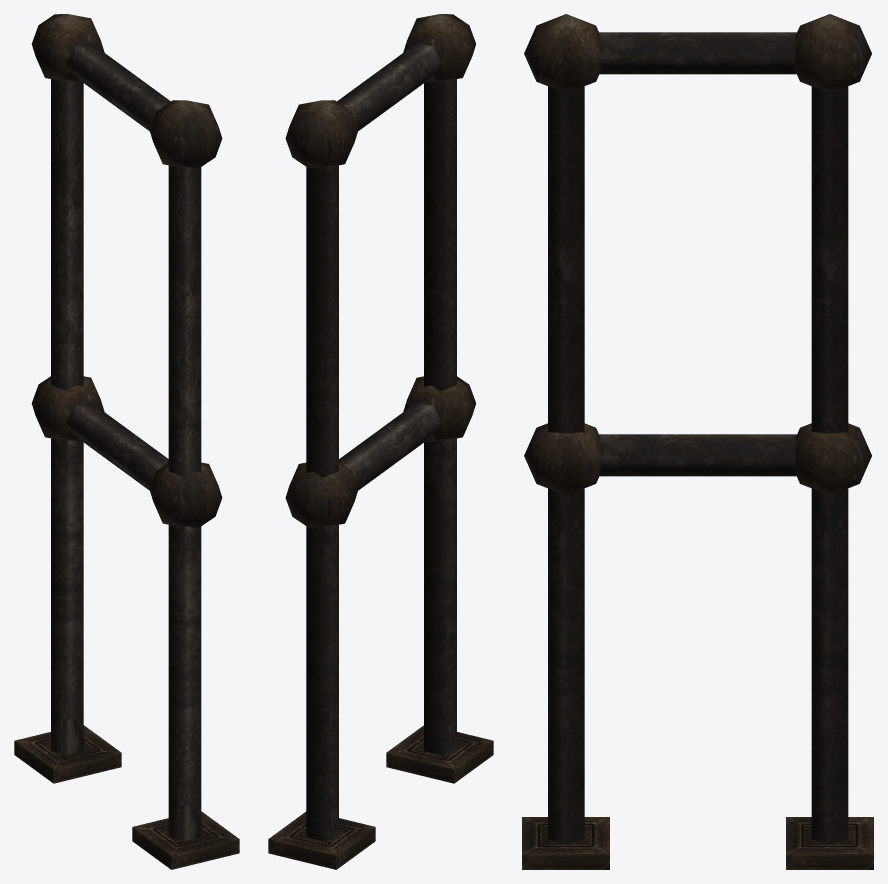
Rendered from railings_factory_05m_dirty.DAE.
3 renders of one model, left to right at view 1: azimuth 30°, elevation 25°; view 2: azimuth 150°, elevation 25°; view 3: azimuth 270°, elevation 25°, orthographic. The views are drawn at different scales.
Visible parts, largest first — view 1: Object133; view 2: Object133; view 3: Object133.
Part boxes in pixels (left/top/right/bottom): Object133: left=14, top=14, right=239, bottom=869; Object133: left=268, top=14, right=493, bottom=869; Object133: left=522, top=14, right=873, bottom=869.
Bounding box in the file's own units: 0.125 × 1.31 × 0.4996.
